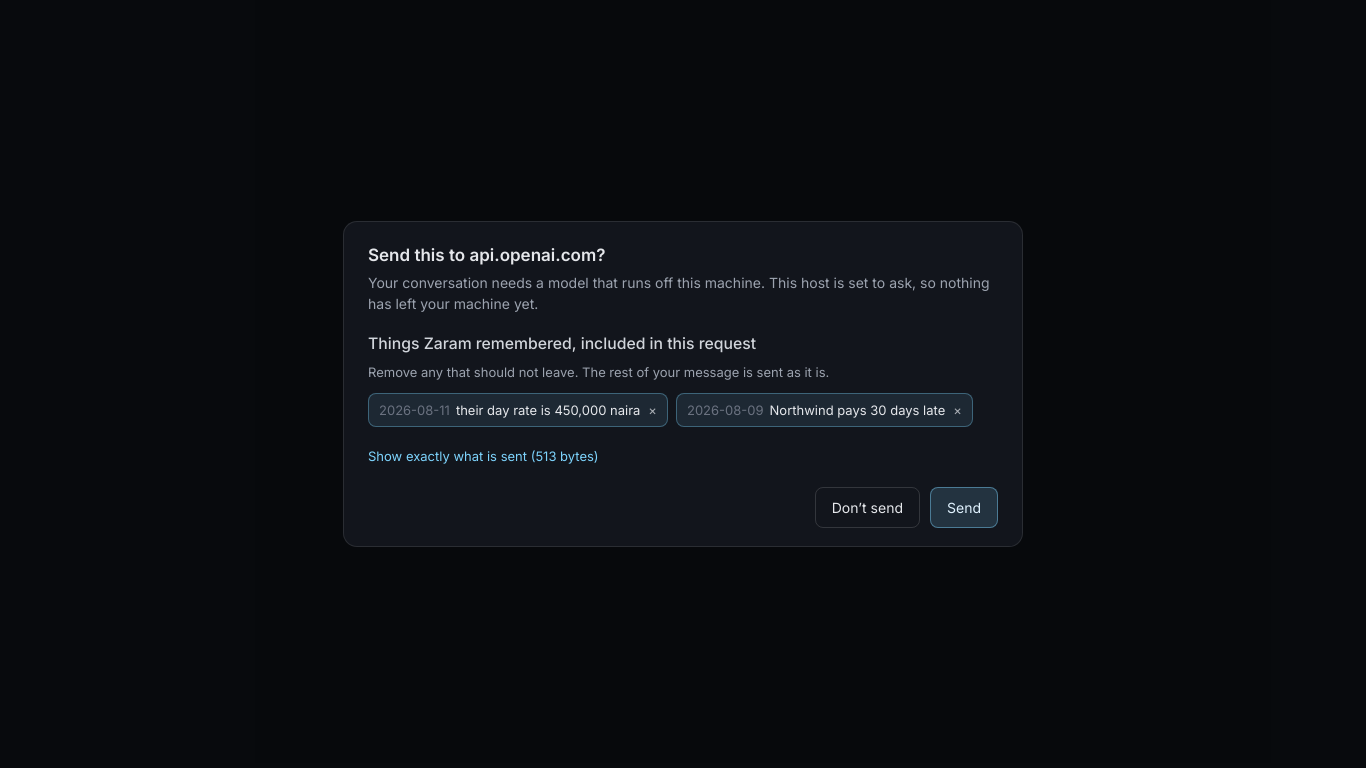
Test: the literal text › can be revealed, and shows the exact bytes
Click the button "Show exactly what is sent (513 bytes)" at [483, 456], box [368, 446, 599, 466]
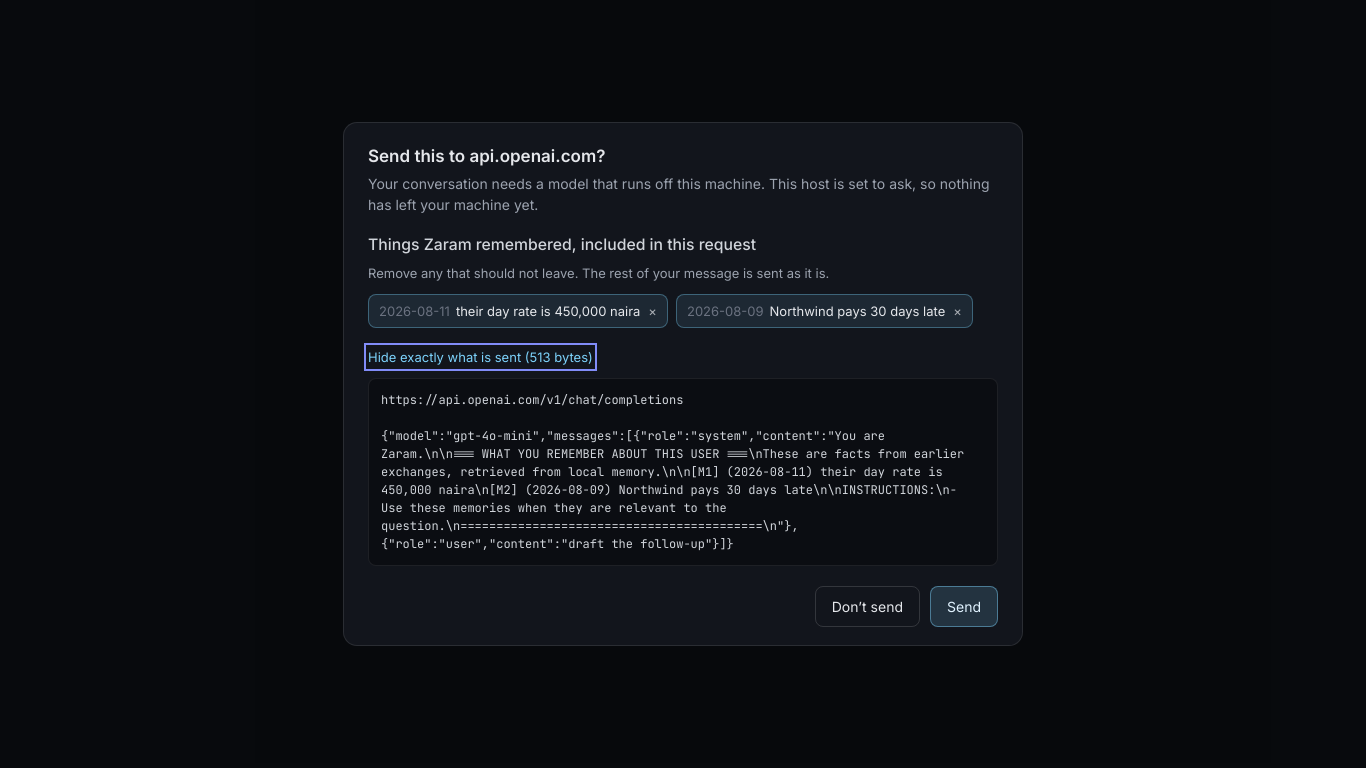
Expected: the text with test id "literal-text" shows "api.openai.com/v1/chat/completions", [381, 392, 971, 552]
Expected: the text with test id "literal-text" shows "their day rate is 450,000 naira", [381, 392, 971, 552]
